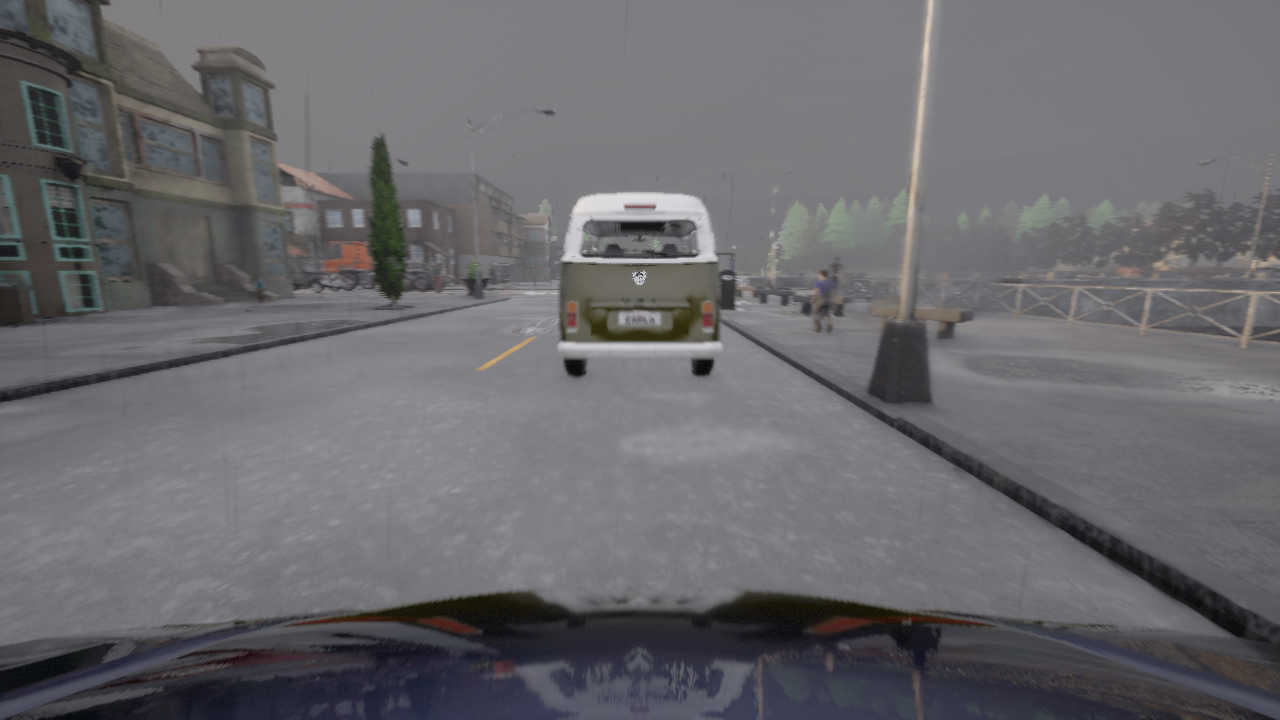cyclist: (0, 588, 1279, 719), (557, 193, 722, 375), (322, 241, 455, 291), (290, 262, 345, 292), (1249, 266, 1279, 278)
pedestrian: (811, 269, 834, 331), (828, 256, 847, 295), (254, 274, 265, 303), (433, 263, 442, 292)
